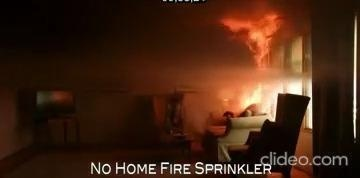fire: (212, 1, 287, 127)
